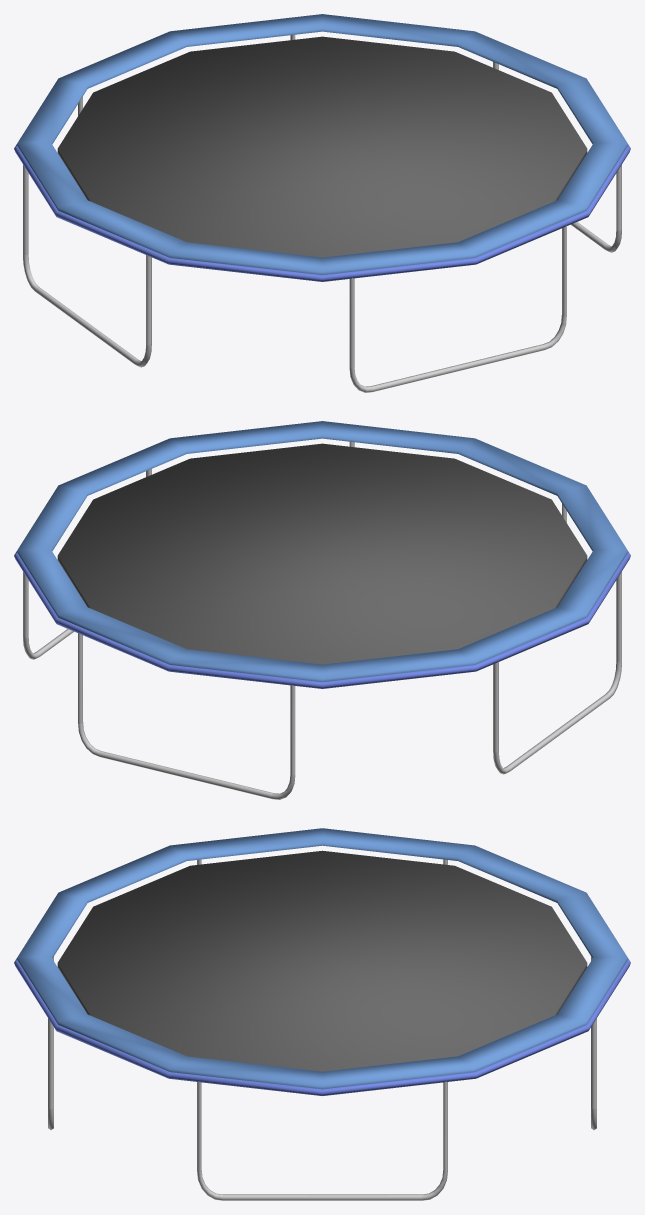
Rendered from trambolin (1).fbx.
3 views of the same model, one above another, from view 1: azimuth 30°, elevation 25°; view 2: azimuth 150°, elevation 25°; view 3: azimuth 270°, elevation 25° (orthographic).
Visible parts, largest first — view 1: skeA630_001; view 2: skeA630_001; view 3: skeA630_001.
Part boxes in pixels (x1=…): skeA630_001: x1=14, y1=14, x2=630, y2=392; skeA630_001: x1=14, y1=421, x2=630, y2=799; skeA630_001: x1=14, y1=828, x2=630, y2=1200.
Bounding box in the file's own units: 432 × 99.53 × 432.
